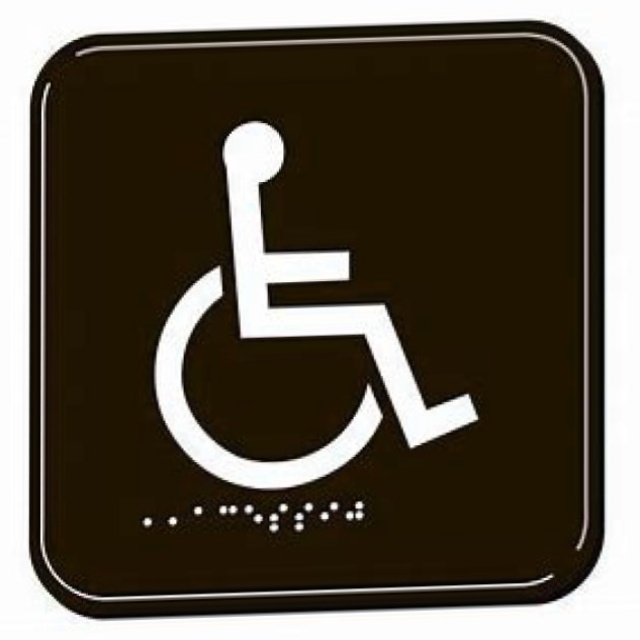ISA: (149, 113, 484, 496)
